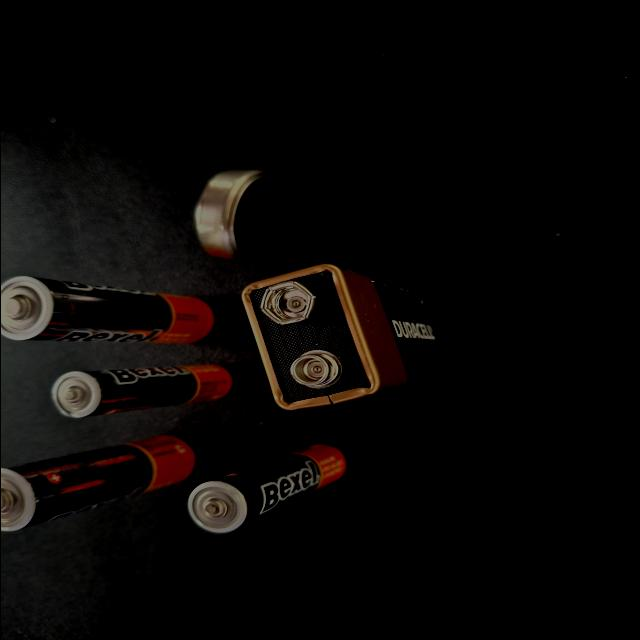9V: (195, 231, 398, 375)
AA: (445, 109, 640, 204), (427, 297, 640, 363)
AAA: (294, 107, 452, 195), (408, 222, 590, 276)
COIN: (352, 377, 447, 471)
